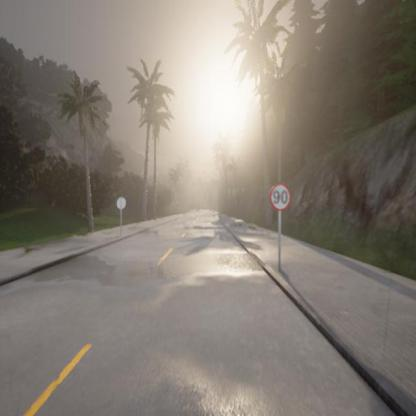traffic_sign_90: (270, 183, 291, 211)
